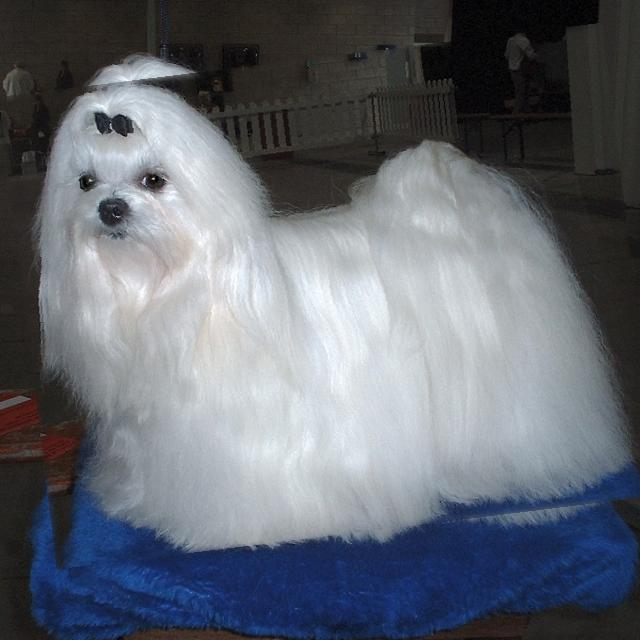maltese: (11, 40, 640, 551)
